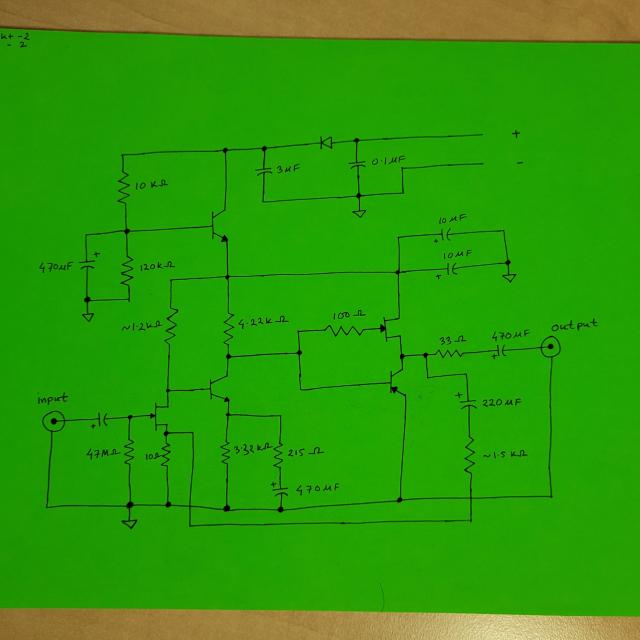capacitor: (76, 250, 102, 272), (453, 391, 479, 411), (431, 225, 452, 244), (89, 411, 110, 430), (269, 480, 291, 497), (435, 262, 457, 279), (254, 164, 273, 181), (348, 158, 368, 174), (491, 342, 507, 360)
crossover: (466, 494, 475, 502), (186, 503, 193, 509)
diode: (316, 133, 336, 151)
ground: (116, 518, 143, 530), (501, 272, 517, 284), (80, 311, 94, 323), (352, 208, 366, 218)
junction: (124, 500, 134, 510), (395, 495, 404, 504), (83, 295, 92, 304), (222, 503, 231, 512), (161, 428, 170, 437), (220, 146, 230, 154), (276, 506, 285, 514), (354, 191, 363, 199), (122, 227, 131, 235), (125, 413, 134, 421), (224, 352, 232, 361), (260, 144, 268, 152), (295, 348, 303, 356), (164, 500, 172, 508), (547, 492, 555, 500), (504, 258, 512, 266), (296, 385, 304, 393), (118, 150, 126, 158), (352, 137, 360, 144), (467, 516, 474, 524), (398, 352, 405, 360), (43, 502, 50, 510), (223, 273, 230, 280), (394, 268, 401, 275), (294, 328, 302, 334), (186, 522, 193, 528), (164, 387, 171, 393), (83, 231, 89, 238), (500, 228, 507, 234), (422, 352, 428, 358), (224, 411, 230, 417), (260, 198, 266, 204), (168, 276, 174, 282), (399, 165, 405, 171), (278, 413, 284, 418), (425, 374, 430, 380), (190, 430, 195, 436), (126, 296, 131, 302), (396, 234, 401, 240), (400, 190, 405, 195), (463, 372, 469, 376)
resistor: (323, 322, 366, 337), (462, 435, 477, 477), (163, 306, 179, 345), (221, 309, 237, 345), (116, 170, 131, 206), (270, 440, 287, 470), (120, 254, 135, 288), (122, 437, 136, 466), (435, 347, 465, 359), (158, 442, 171, 468), (219, 440, 231, 466)
terminal: (41, 409, 68, 433), (538, 334, 562, 358), (479, 160, 486, 167), (479, 132, 485, 138)
text: (550, 317, 598, 333), (233, 441, 273, 456), (133, 177, 169, 193), (294, 482, 340, 494), (482, 448, 527, 460), (121, 319, 161, 332), (38, 260, 74, 274), (239, 316, 289, 326), (370, 154, 408, 166), (138, 260, 175, 272), (490, 328, 530, 339), (37, 392, 68, 405), (482, 397, 522, 407), (86, 447, 119, 459), (286, 446, 323, 456), (332, 309, 366, 319), (274, 162, 301, 174), (439, 213, 467, 224), (438, 334, 466, 344), (442, 249, 472, 258), (143, 450, 163, 460), (512, 128, 520, 137), (516, 158, 523, 168)
transistor: (146, 401, 174, 434), (207, 207, 230, 243), (378, 312, 404, 343), (207, 372, 232, 404), (387, 367, 412, 396)
